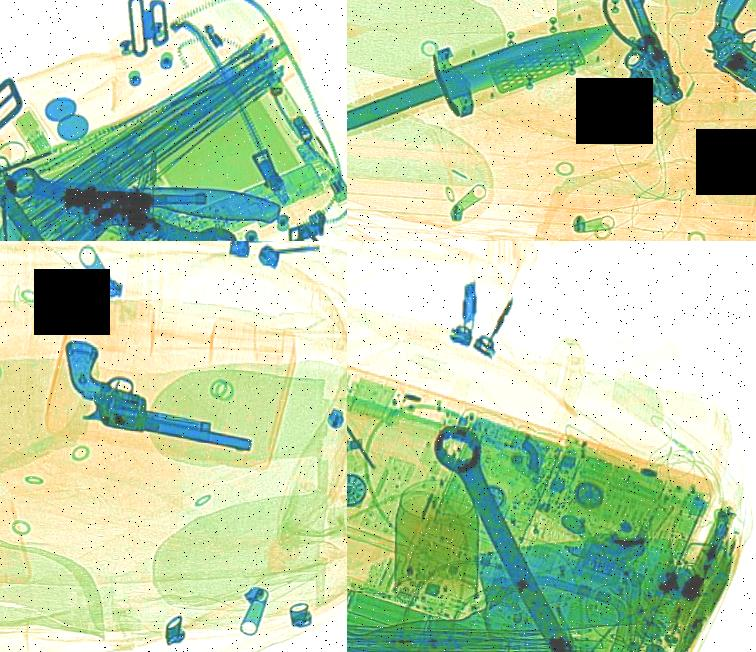Gun: (41, 335, 272, 456), (535, 0, 705, 139), (644, 0, 756, 123), (53, 179, 207, 241)
Knife: (347, 501, 698, 652), (347, 0, 627, 165), (0, 163, 281, 223)
Wrench: (399, 414, 647, 652), (0, 151, 247, 241), (0, 160, 116, 241)
